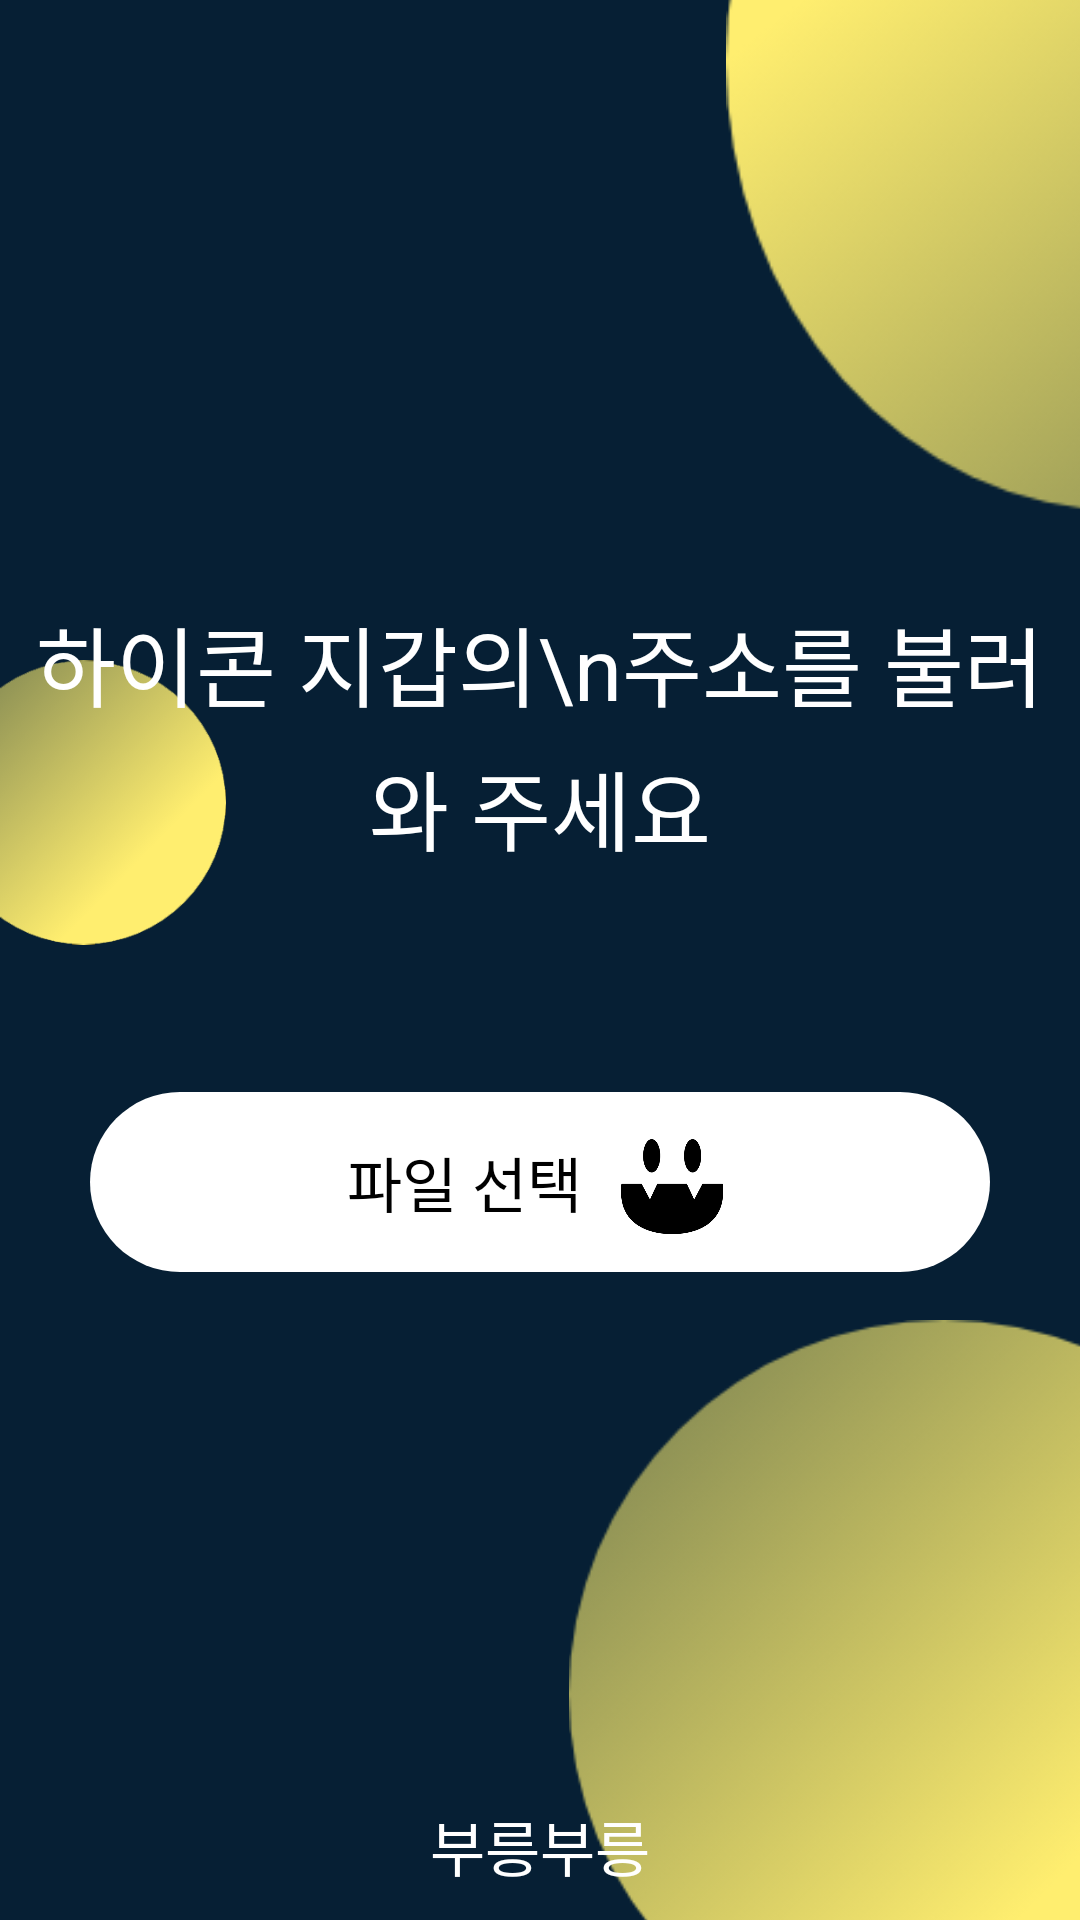

Icons on this 1080×1920 Android screen, each with the point to tap as point (x, y):
face: point (672, 1186)
